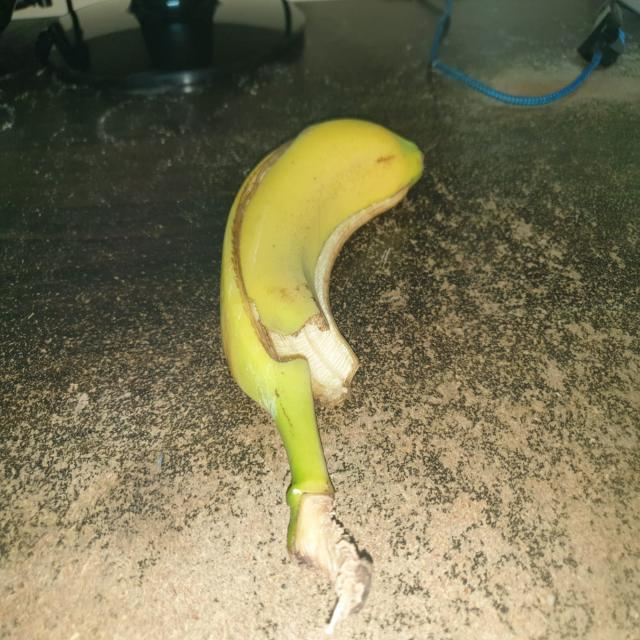banana-peel: (217, 115, 425, 632)
